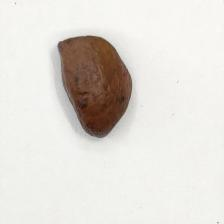NG: (57, 35, 134, 139)
